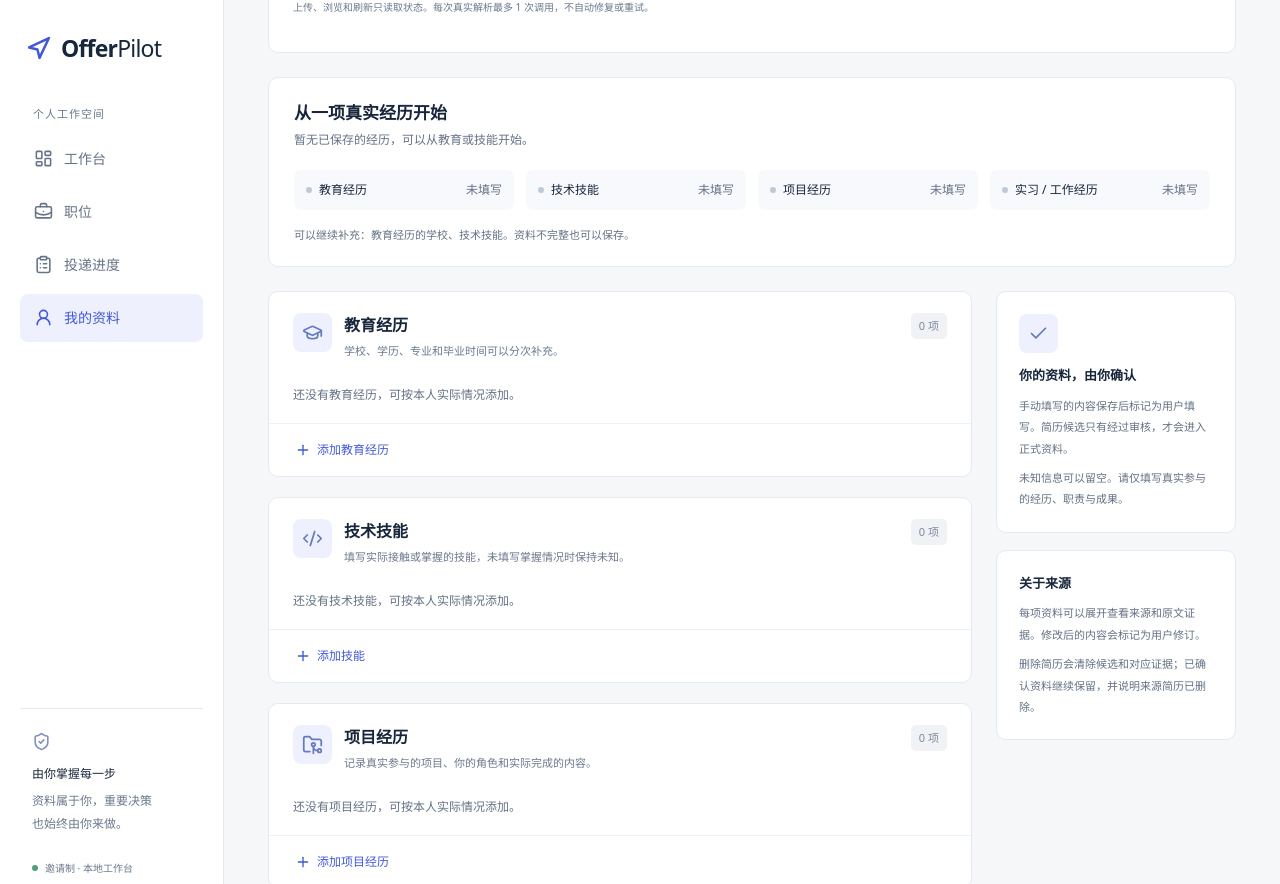
Scenario: saves a partial manual education using the current revision and no client provenance
(page scrolled)
Expected: the heading "从一项真实经历开始" is shown, [294,101,447,124]
Click the button "添加教育经历" at (342, 450), box [288,436,396,464]
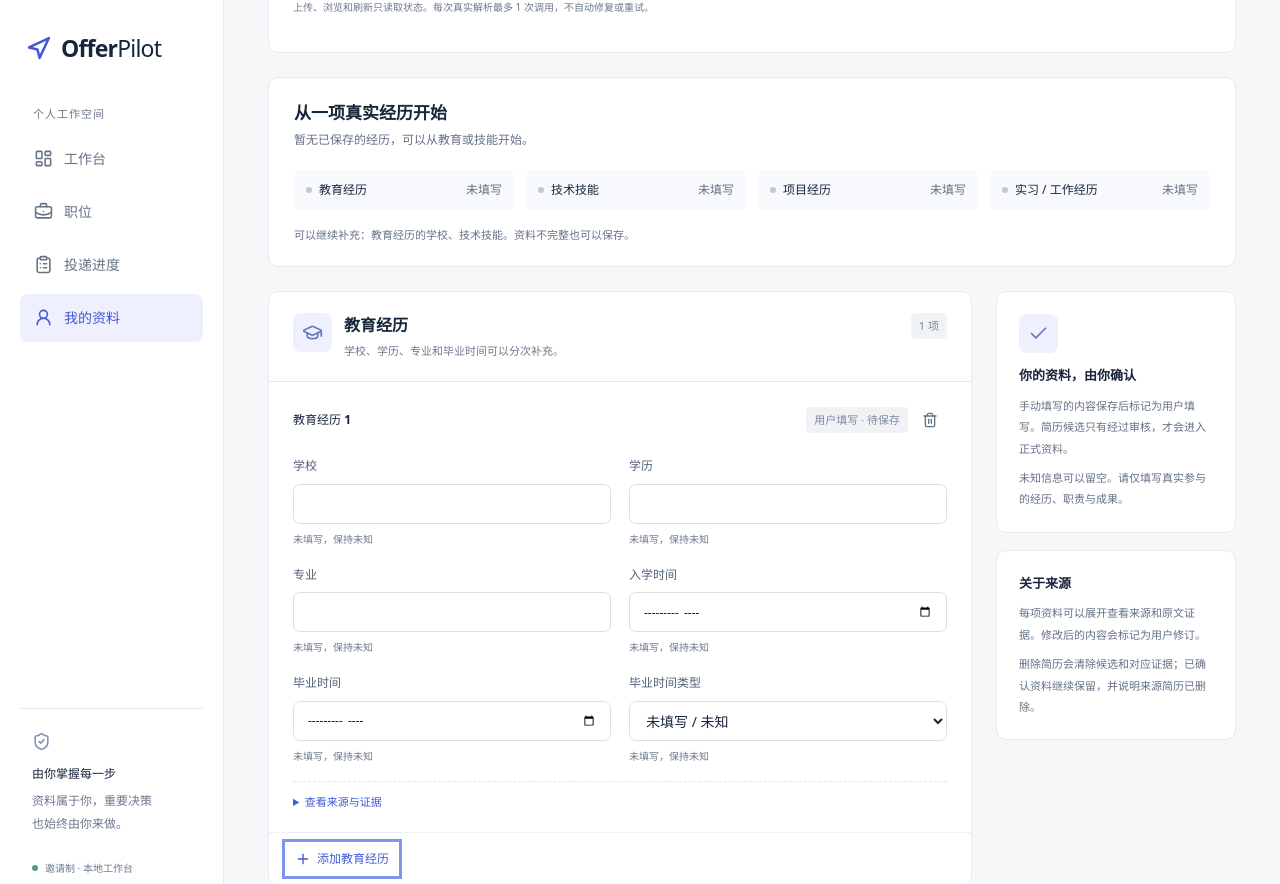
Type "合成大学" into the field labelled "学校" at (452, 504), box [293,484,611,524]
(page scrolled)
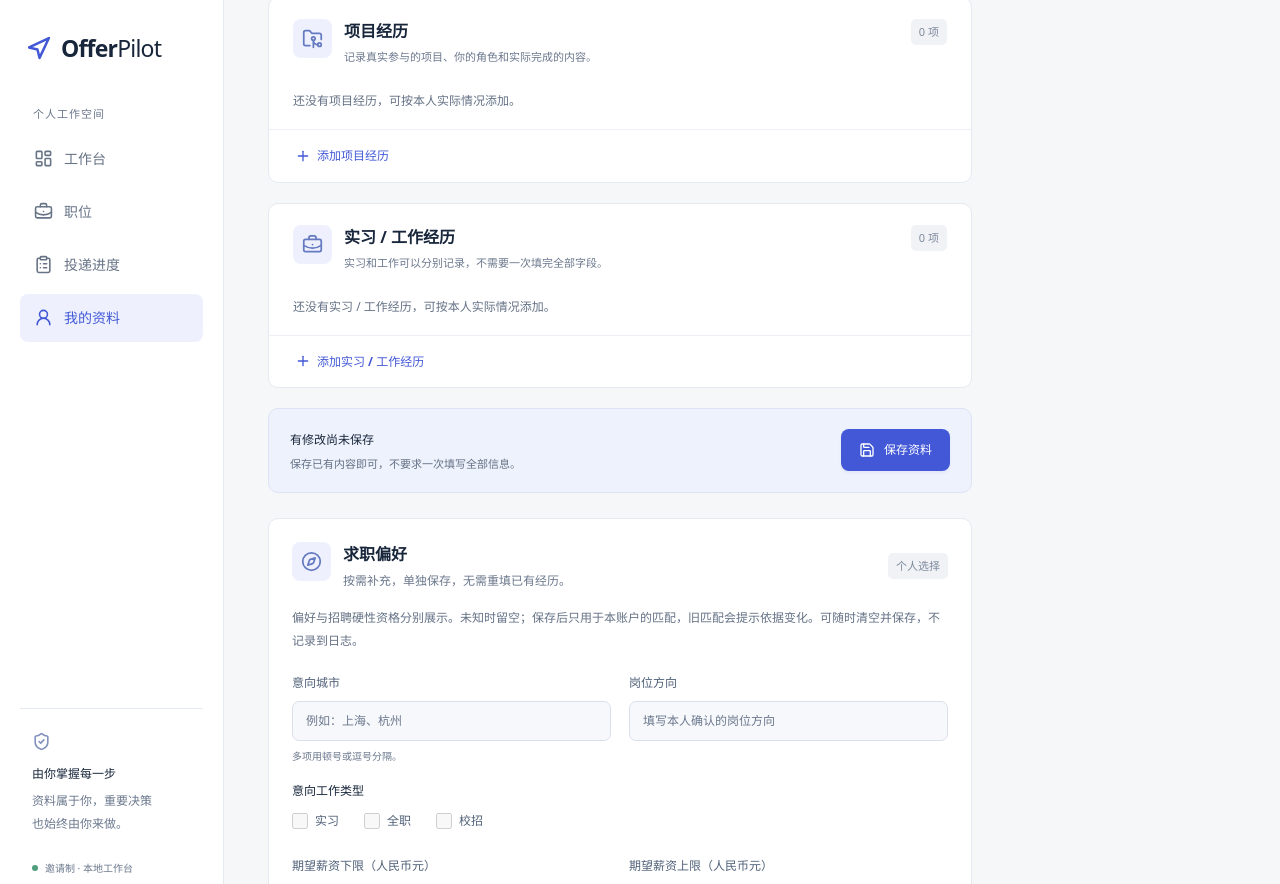
Click the button "保存资料" at (896, 450), box [841,430,950,472]
(page scrolled)
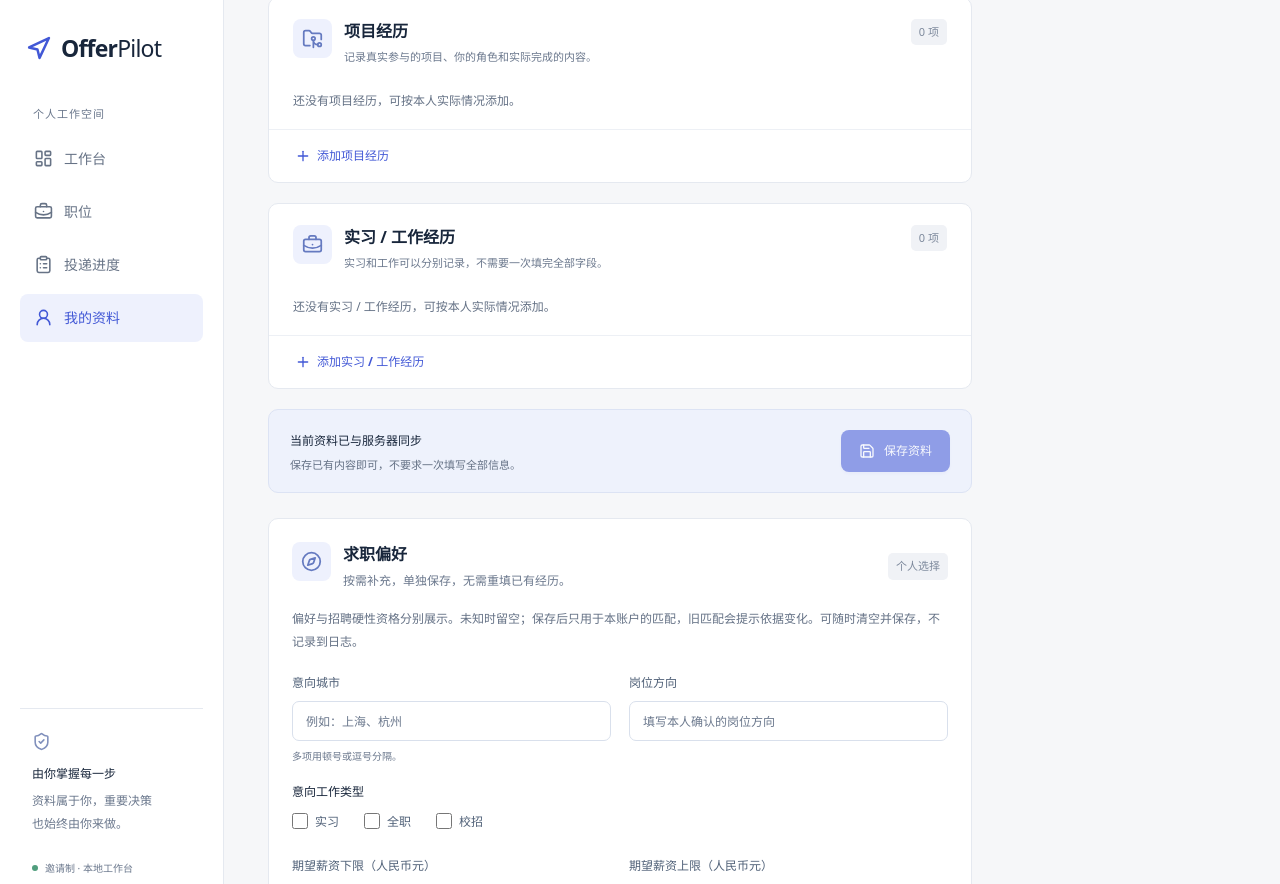
Expected: the button "保存资料" is disabled, [841,430,950,472]
